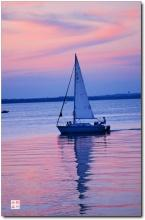fanchuan: (53, 51, 112, 136)
